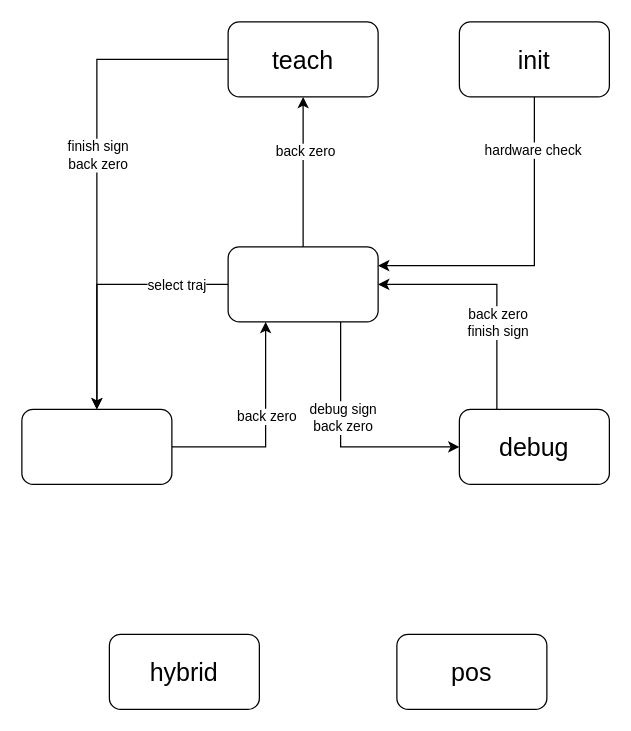
Some shapes in this 631 by 731 pixel diagram are drawn without their labels. Here are the shapes that lost their labels. From the top down, the box of each, then its label:
(227, 246, 378, 322): normal
(21, 408, 172, 484): track
